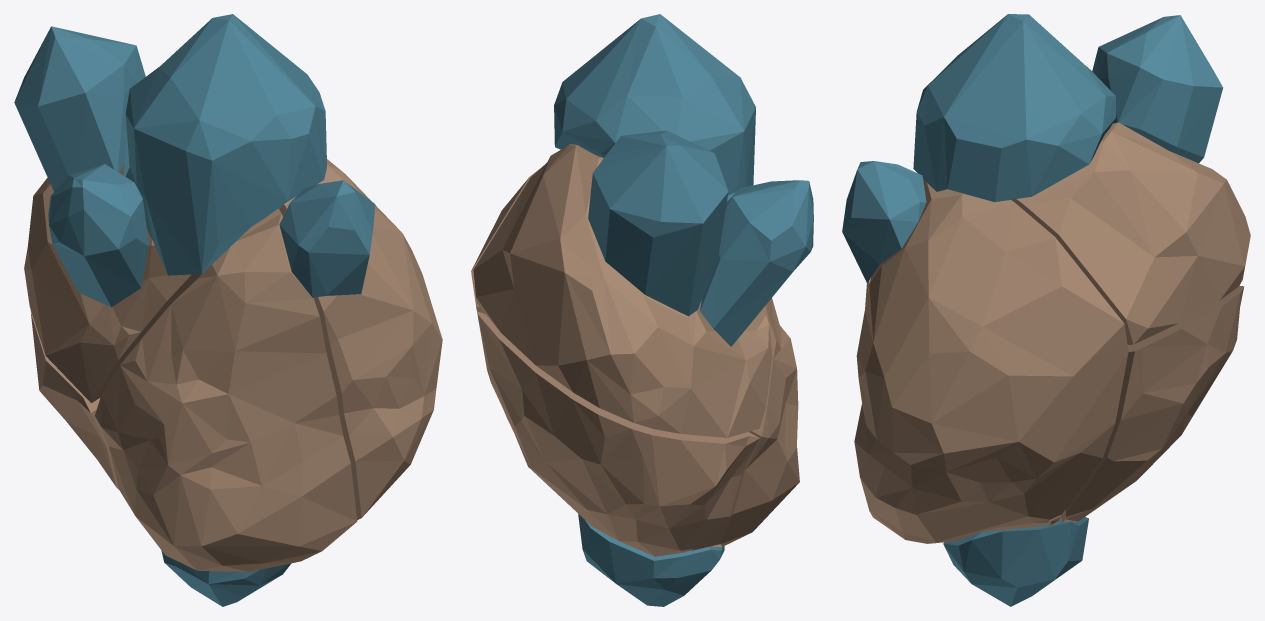
The model's file is SM_LP_Mineral_1_Pieces.fbx.
3 views of the same model, side by side, from view 1: azimuth 30°, elevation 25°; view 2: azimuth 150°, elevation 25°; view 3: azimuth 270°, elevation 25° (orthographic).
Visible parts, largest first — view 1: SM_LP_Mineral_1_Piece_1, SM_LP_Mineral_1_Piece_5, SM_LP_Mineral_1_Piece_2, SM_LP_Mineral_1_Piece_8, SM_LP_Mineral_1_Piece_7, SM_LP_Mineral_1_Piece_9, SM_LP_Mineral_1_Piece_3, SM_LP_Mineral_1_Piece_6, SM_LP_Mineral_1_Piece_4; view 2: SM_LP_Mineral_1_Piece_7, SM_LP_Mineral_1_Piece_6, SM_LP_Mineral_1_Piece_5, SM_LP_Mineral_1_Piece_8, SM_LP_Mineral_1_Piece_9, SM_LP_Mineral_1_Piece_1, SM_LP_Mineral_1_Piece_4, SM_LP_Mineral_1_Piece_2; view 3: SM_LP_Mineral_1_Piece_2, SM_LP_Mineral_1_Piece_7, SM_LP_Mineral_1_Piece_5, SM_LP_Mineral_1_Piece_6, SM_LP_Mineral_1_Piece_8, SM_LP_Mineral_1_Piece_4, SM_LP_Mineral_1_Piece_3, SM_LP_Mineral_1_Piece_1.
Part boxes in pixels (x1,y1,x2,y2): SM_LP_Mineral_1_Piece_1: (95,208,357,571); SM_LP_Mineral_1_Piece_5: (123,14,326,275); SM_LP_Mineral_1_Piece_2: (279,159,442,519); SM_LP_Mineral_1_Piece_8: (14,26,145,191); SM_LP_Mineral_1_Piece_7: (24,163,201,403); SM_LP_Mineral_1_Piece_9: (48,164,148,307); SM_LP_Mineral_1_Piece_3: (279,180,375,297); SM_LP_Mineral_1_Piece_6: (30,310,118,489); SM_LP_Mineral_1_Piece_4: (161,550,291,606); SM_LP_Mineral_1_Piece_7: (473,144,772,437); SM_LP_Mineral_1_Piece_6: (477,311,759,556); SM_LP_Mineral_1_Piece_5: (554,14,755,203); SM_LP_Mineral_1_Piece_8: (588,130,728,316); SM_LP_Mineral_1_Piece_9: (700,180,813,346); SM_LP_Mineral_1_Piece_1: (690,298,799,550); SM_LP_Mineral_1_Piece_4: (578,514,724,606); SM_LP_Mineral_1_Piece_2: (471,167,541,403); SM_LP_Mineral_1_Piece_2: (854,179,1128,542); SM_LP_Mineral_1_Piece_7: (1011,122,1250,344); SM_LP_Mineral_1_Piece_5: (913,14,1115,201); SM_LP_Mineral_1_Piece_6: (1060,285,1244,521); SM_LP_Mineral_1_Piece_8: (1092,15,1223,163); SM_LP_Mineral_1_Piece_4: (943,516,1088,606); SM_LP_Mineral_1_Piece_3: (842,161,926,282); SM_LP_Mineral_1_Piece_1: (869,511,1060,543).
Bounding box in the file's own units: 0.8138 × 1.36 × 0.8532.
